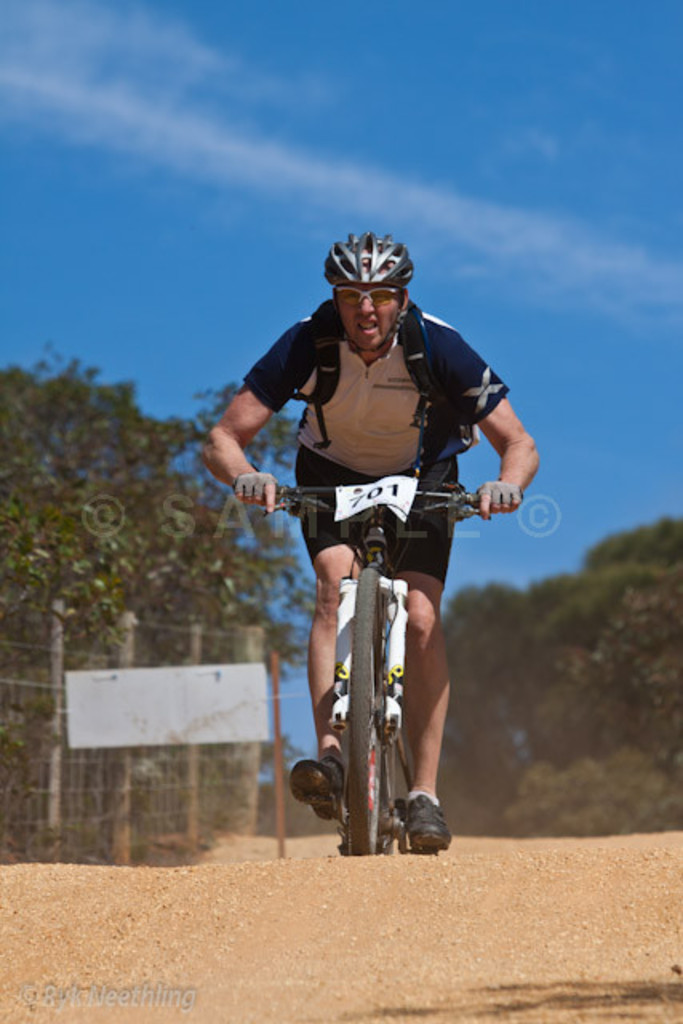Bike: (259, 464, 524, 878)
